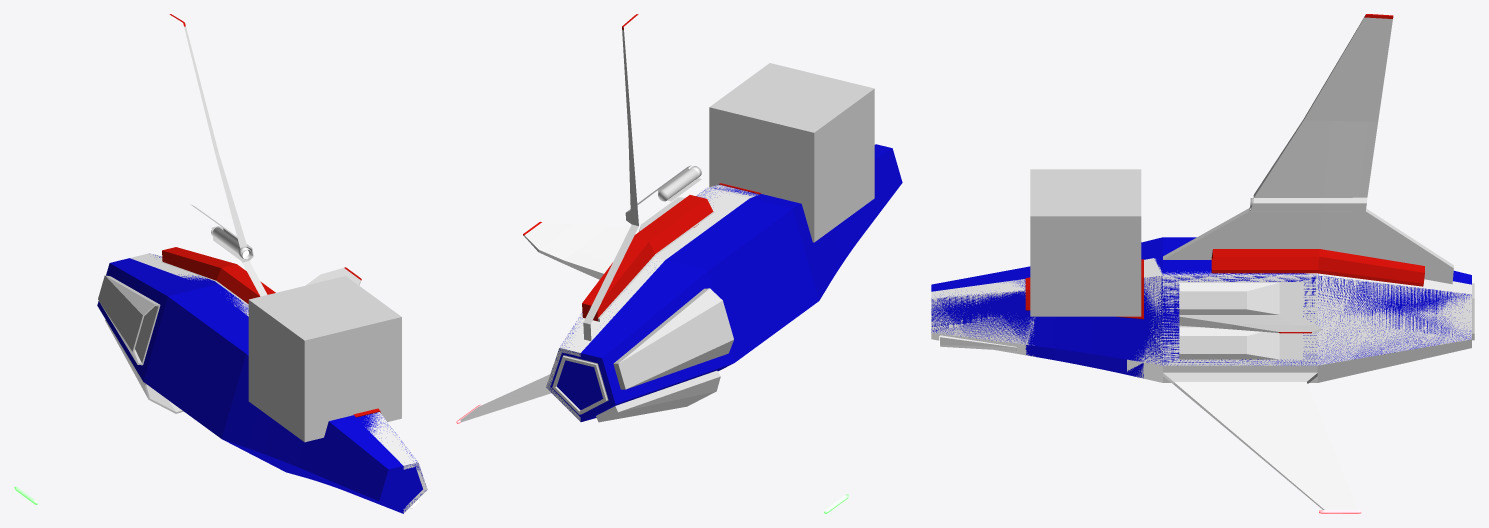
Rendered from Buzzer.glb.
3 views of the same model, side by side, from view 1: azimuth 30°, elevation 25°; view 2: azimuth 150°, elevation 25°; view 3: azimuth 270°, elevation 25° (orthographic). The views are drawn at different scales.
Visible parts, largest first — view 1: Window, Window.Exclusion, Wing.Main, Hull.Rear, Hull, TopLight; view 2: Window, Window.Exclusion, Hull.Rear, Wing.Main, Wings.Small, Hull, Wings.Secondary, Engine, TopLight; view 3: Wing.Main, Hull, Window, Window.Exclusion, Wings.Secondary, Wings.Small, FrontLight.
Boxes of the visible parts, x1,y1,x2,y2 form: Window: [97, 254, 426, 513]; Window.Exclusion: [248, 276, 401, 442]; Wing.Main: [161, 14, 275, 305]; Hull.Rear: [98, 275, 183, 413]; Hull: [130, 253, 427, 512]; TopLight: [211, 227, 251, 259]; Window: [546, 144, 902, 421]; Window.Exclusion: [709, 63, 874, 242]; Hull.Rear: [596, 288, 733, 422]; Wing.Main: [582, 14, 714, 340]; Wings.Small: [523, 197, 685, 279]; Hull: [546, 144, 875, 421]; Wings.Secondary: [460, 374, 551, 422]; Engine: [552, 355, 608, 414]; TopLight: [658, 166, 701, 201]; Wing.Main: [1163, 14, 1453, 286]; Hull: [931, 258, 1471, 382]; Window: [931, 237, 1471, 378]; Window.Exclusion: [1030, 169, 1141, 316]; Wings.Secondary: [1163, 372, 1357, 509]; Wings.Small: [1179, 282, 1321, 359]; FrontLight: [939, 335, 1016, 350].
Bounding box in the file's own units: 5.07 × 5.96 × 7.03.
